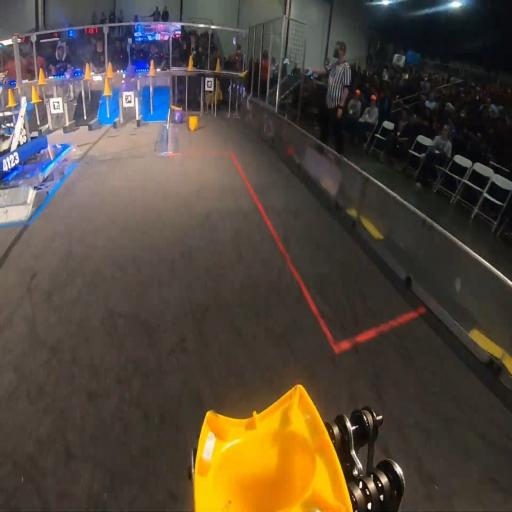robot: (0, 93, 49, 182)
